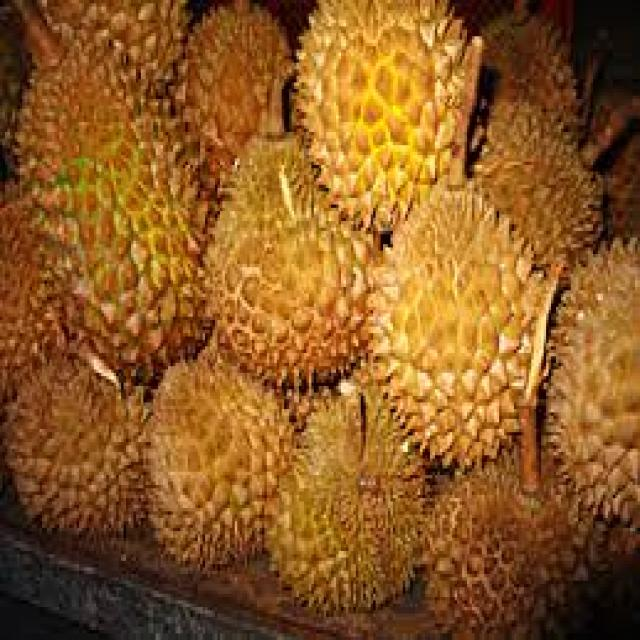mature: (19, 39, 221, 367), (385, 176, 550, 461), (209, 133, 378, 394), (290, 5, 475, 234), (261, 390, 427, 618), (543, 214, 640, 531), (139, 363, 288, 569), (6, 367, 147, 545)
